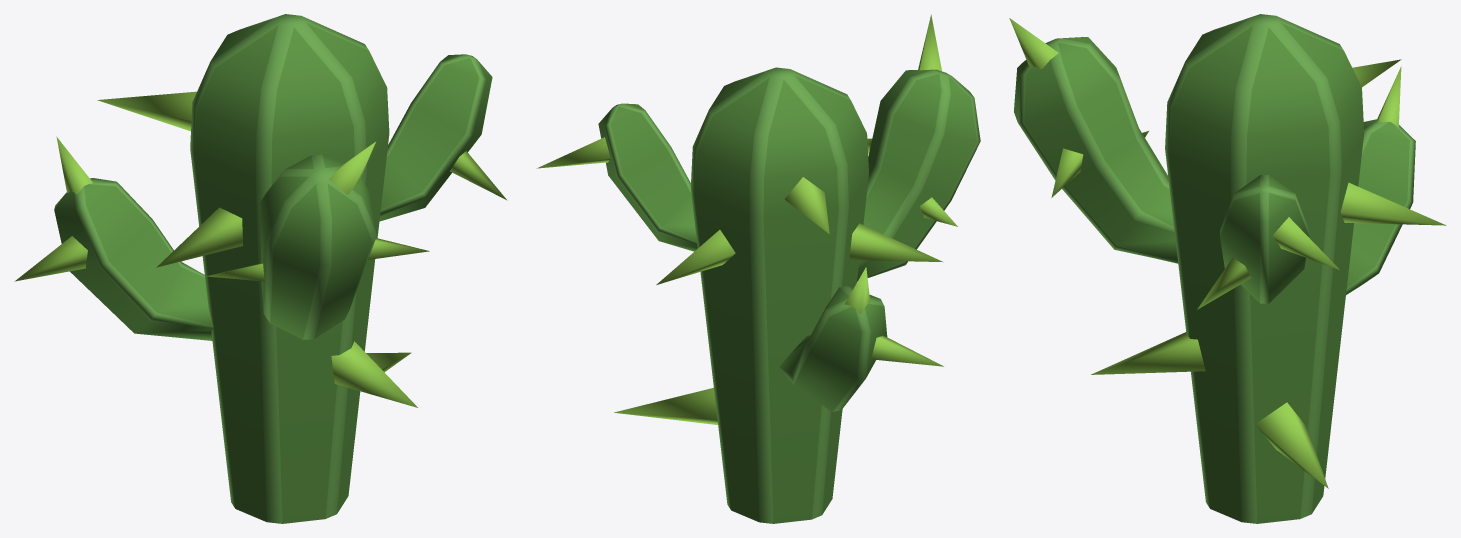
The model's file is Cactus_1.fbx.
3 renders of one model, left to right at view 1: azimuth 30°, elevation 25°; view 2: azimuth 150°, elevation 25°; view 3: azimuth 270°, elevation 25°, orthographic. The views are drawn at different scales.
Visible parts, largest first — view 1: Cactus_1, Cactus_1.3, Cactus_1.2, Cactus_1.1; view 2: Cactus_1, Cactus_1.3, Cactus_1.1, Cactus_1.2; view 3: Cactus_1, Cactus_1.3, Cactus_1.1, Cactus_1.2.
Part boxes in pixels (box(x1,y1,x2,y2)): Cactus_1: box(97, 14, 417, 523); Cactus_1.3: box(206, 142, 429, 339); Cactus_1.2: box(14, 136, 213, 340); Cactus_1.1: box(379, 54, 507, 221); Cactus_1: box(614, 67, 943, 523); Cactus_1.3: box(857, 14, 980, 281); Cactus_1.1: box(536, 103, 697, 251); Cactus_1.2: box(779, 267, 943, 411); Cactus_1: box(1091, 14, 1446, 523); Cactus_1.3: box(1009, 18, 1178, 263); Cactus_1.1: box(1197, 175, 1339, 309); Cactus_1.2: box(1346, 66, 1415, 294).
Bounding box in the file's own units: 3.9 × 3.84 × 3.18.
